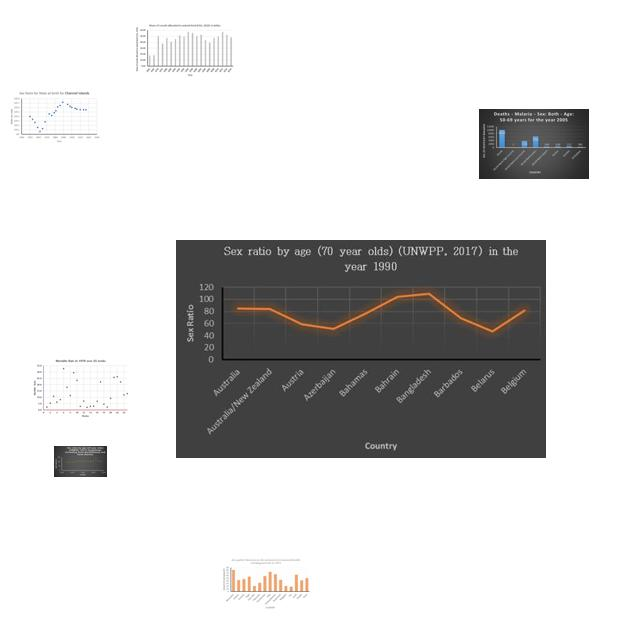Graph: (176, 240, 546, 458), (479, 109, 589, 179), (32, 358, 130, 418), (135, 22, 235, 78), (7, 89, 102, 145), (221, 558, 310, 610), (54, 446, 107, 477)
